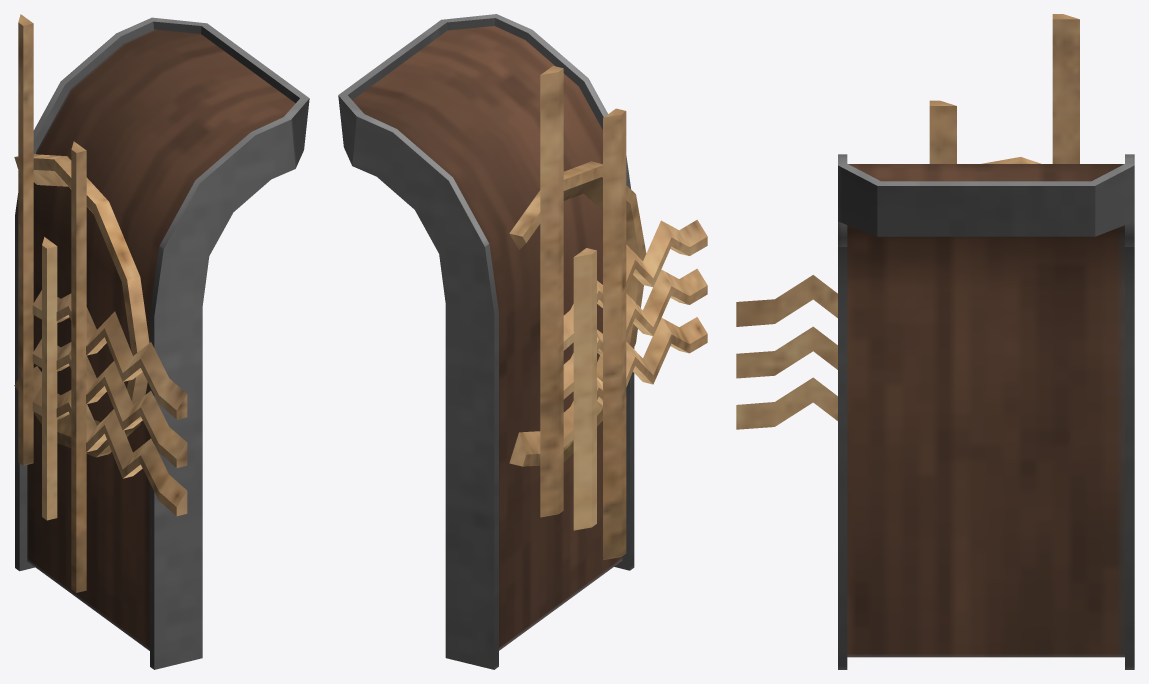
Rendered from Abstract_Sculpture.glb.
3 views of the same model, side by side, from view 1: azimuth 30°, elevation 25°; view 2: azimuth 150°, elevation 25°; view 3: azimuth 270°, elevation 25° (orthographic). The views are drawn at different scales.
Parts seen in each view (by area): view 1: sculpture1_sculpture_base_0, sculpture1_sculpture_0; view 2: sculpture1_sculpture_base_0, sculpture1_sculpture_0; view 3: sculpture1_sculpture_base_0, sculpture1_sculpture_0.
Boxes of the visible parts, x1,y1,x2,y2 form: sculpture1_sculpture_base_0: (15,17,309,669); sculpture1_sculpture_0: (14,14,187,592); sculpture1_sculpture_base_0: (338,14,634,669); sculpture1_sculpture_0: (509,66,707,560); sculpture1_sculpture_base_0: (838,154,1134,669); sculpture1_sculpture_0: (736,14,1079,429).
Size of the model in its own units: 0.0823 by 0.2176 by 0.1277.
Materials: 2 (2 with a texture image).
